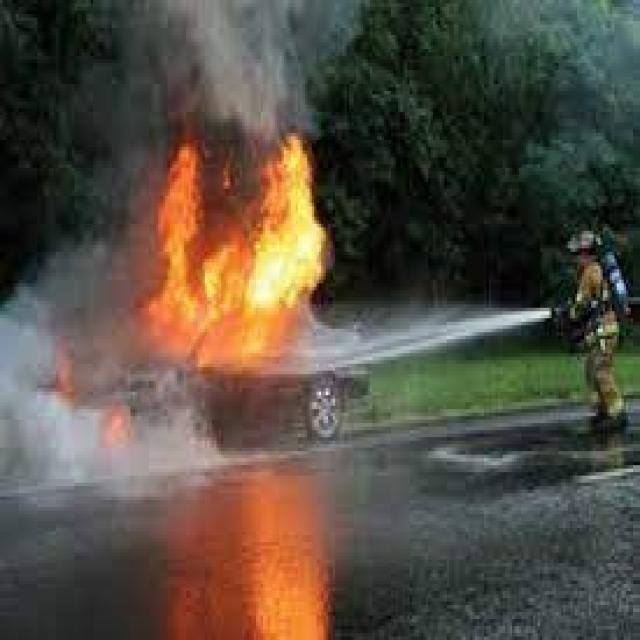fire: (245, 133, 327, 377), (132, 139, 205, 369), (201, 223, 246, 379)
